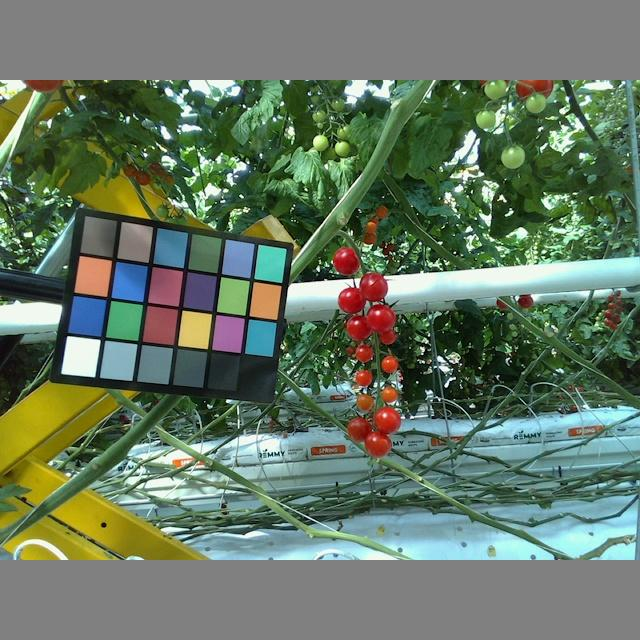green: (499, 143, 525, 168), (484, 81, 509, 103), (523, 92, 546, 115), (473, 109, 496, 128)
pink: (353, 393, 376, 412), (380, 385, 398, 405)
red: (360, 269, 390, 302), (343, 313, 375, 343), (365, 303, 398, 331), (370, 406, 403, 434), (336, 285, 365, 313), (330, 248, 359, 275), (365, 430, 392, 457), (346, 417, 373, 440), (353, 344, 374, 364), (380, 356, 397, 374), (354, 368, 373, 384)
